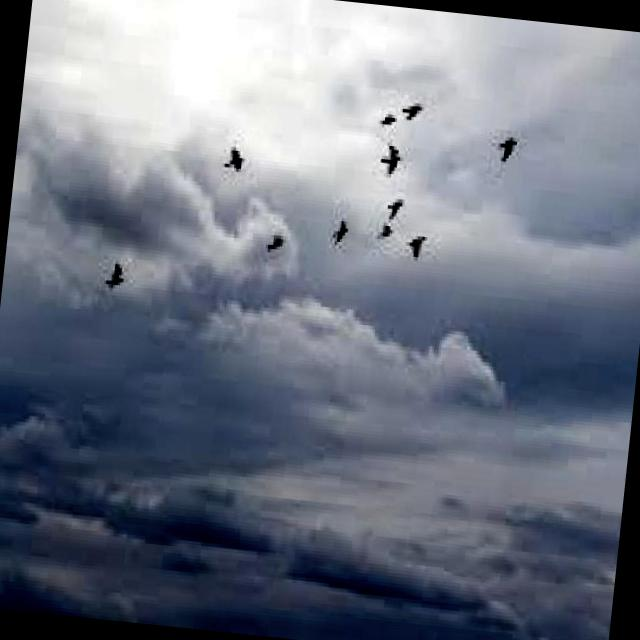bird: (320, 198, 357, 274), (364, 134, 406, 190), (218, 131, 261, 183), (487, 130, 532, 174), (397, 232, 449, 270), (256, 222, 295, 270), (378, 185, 416, 233), (393, 80, 422, 141), (97, 251, 131, 299), (368, 91, 400, 136), (372, 214, 400, 255)
